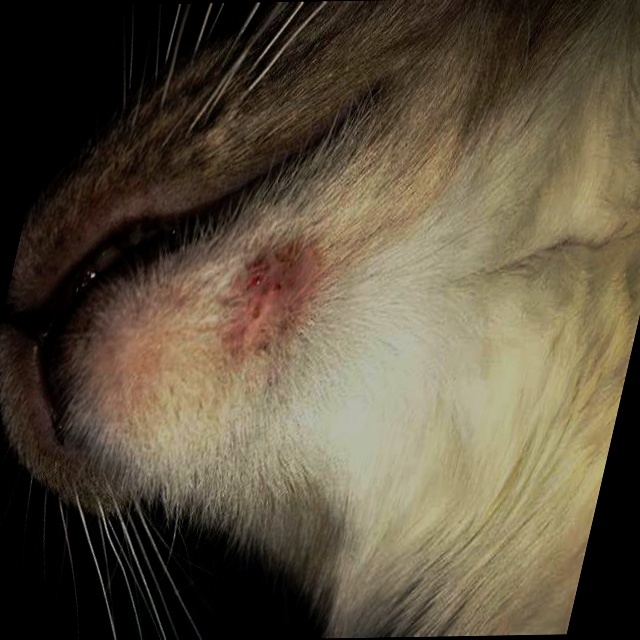acne: (217, 239, 326, 338)
